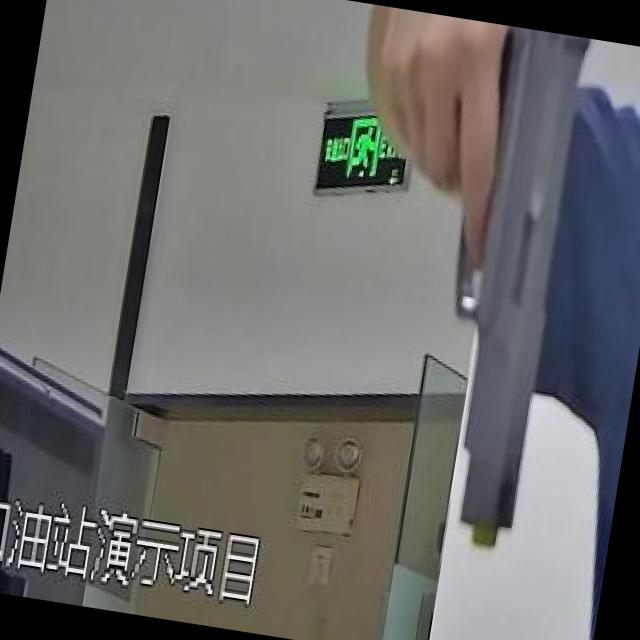Guns: (342, 13, 640, 580)
